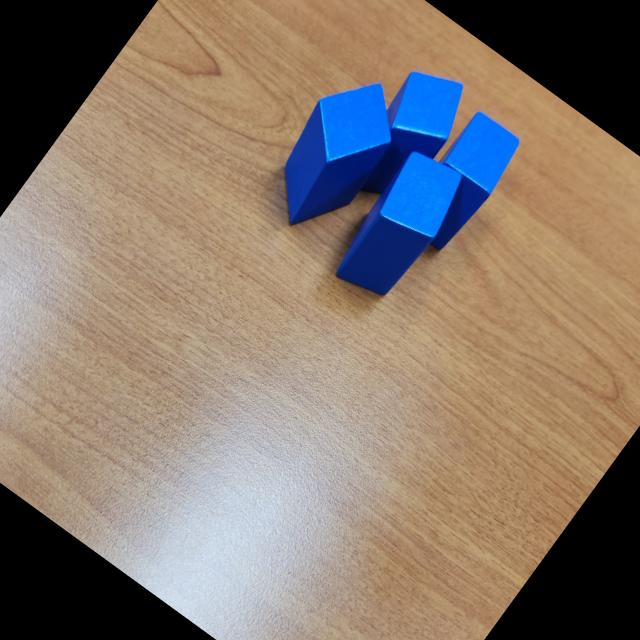blue: (248, 58, 420, 246), (324, 140, 476, 310), (338, 56, 479, 212), (394, 108, 528, 258)
